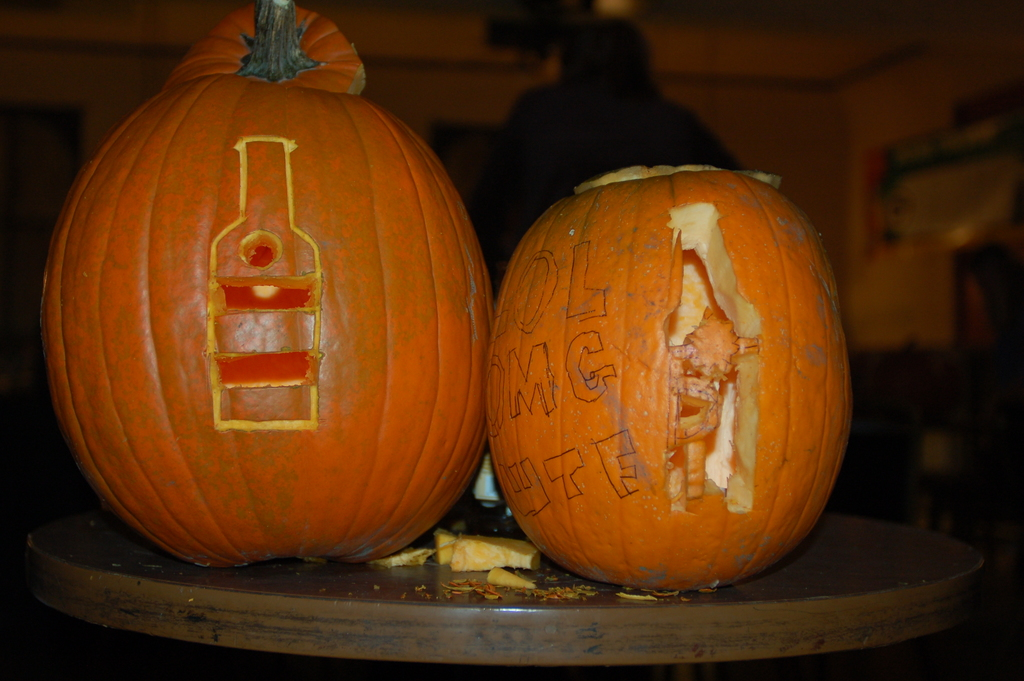person: (469, 14, 748, 265)
